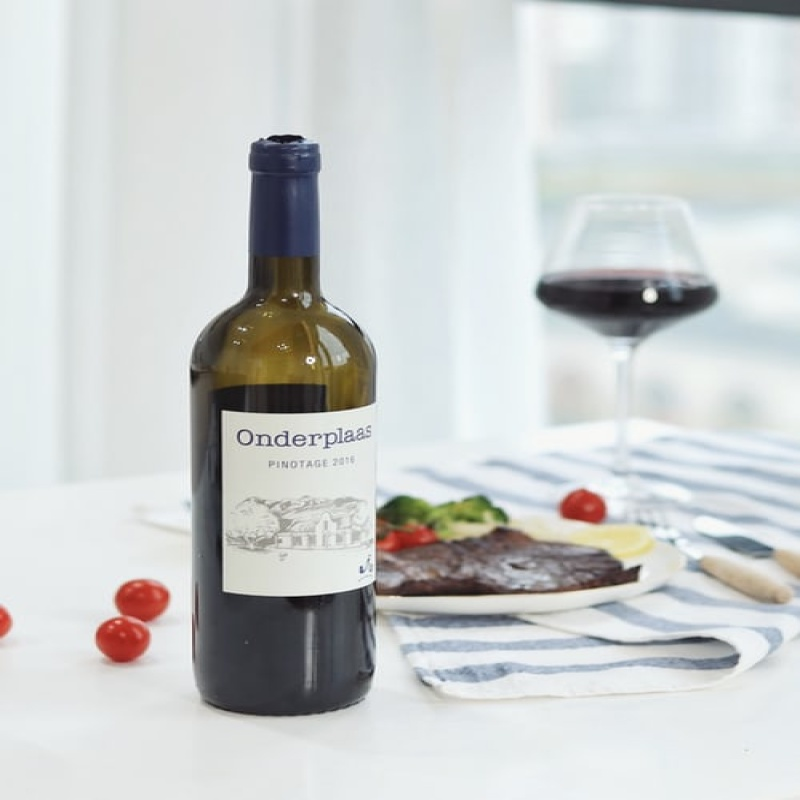wine: (184, 135, 371, 715)
